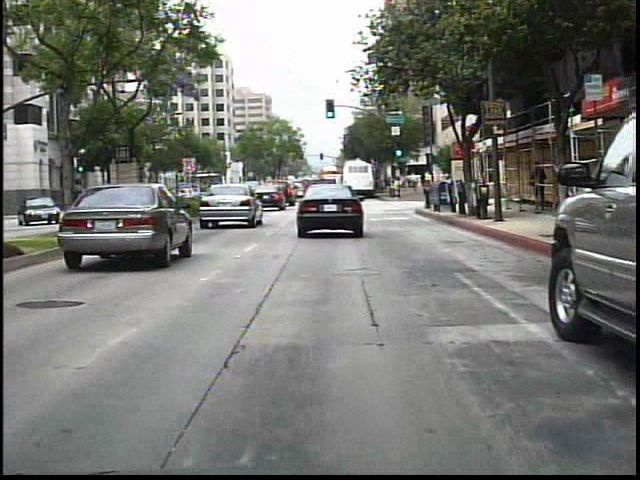person: (527, 154, 545, 217)
